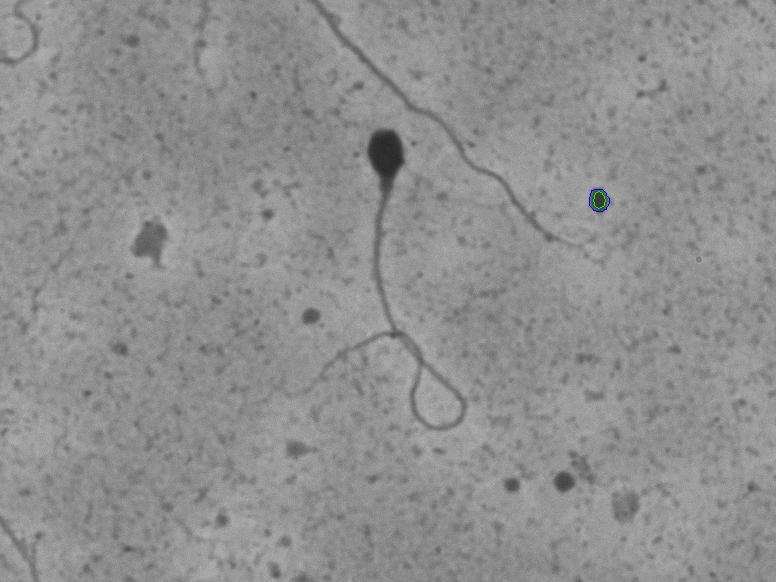Normal: (261, 119, 476, 472)
